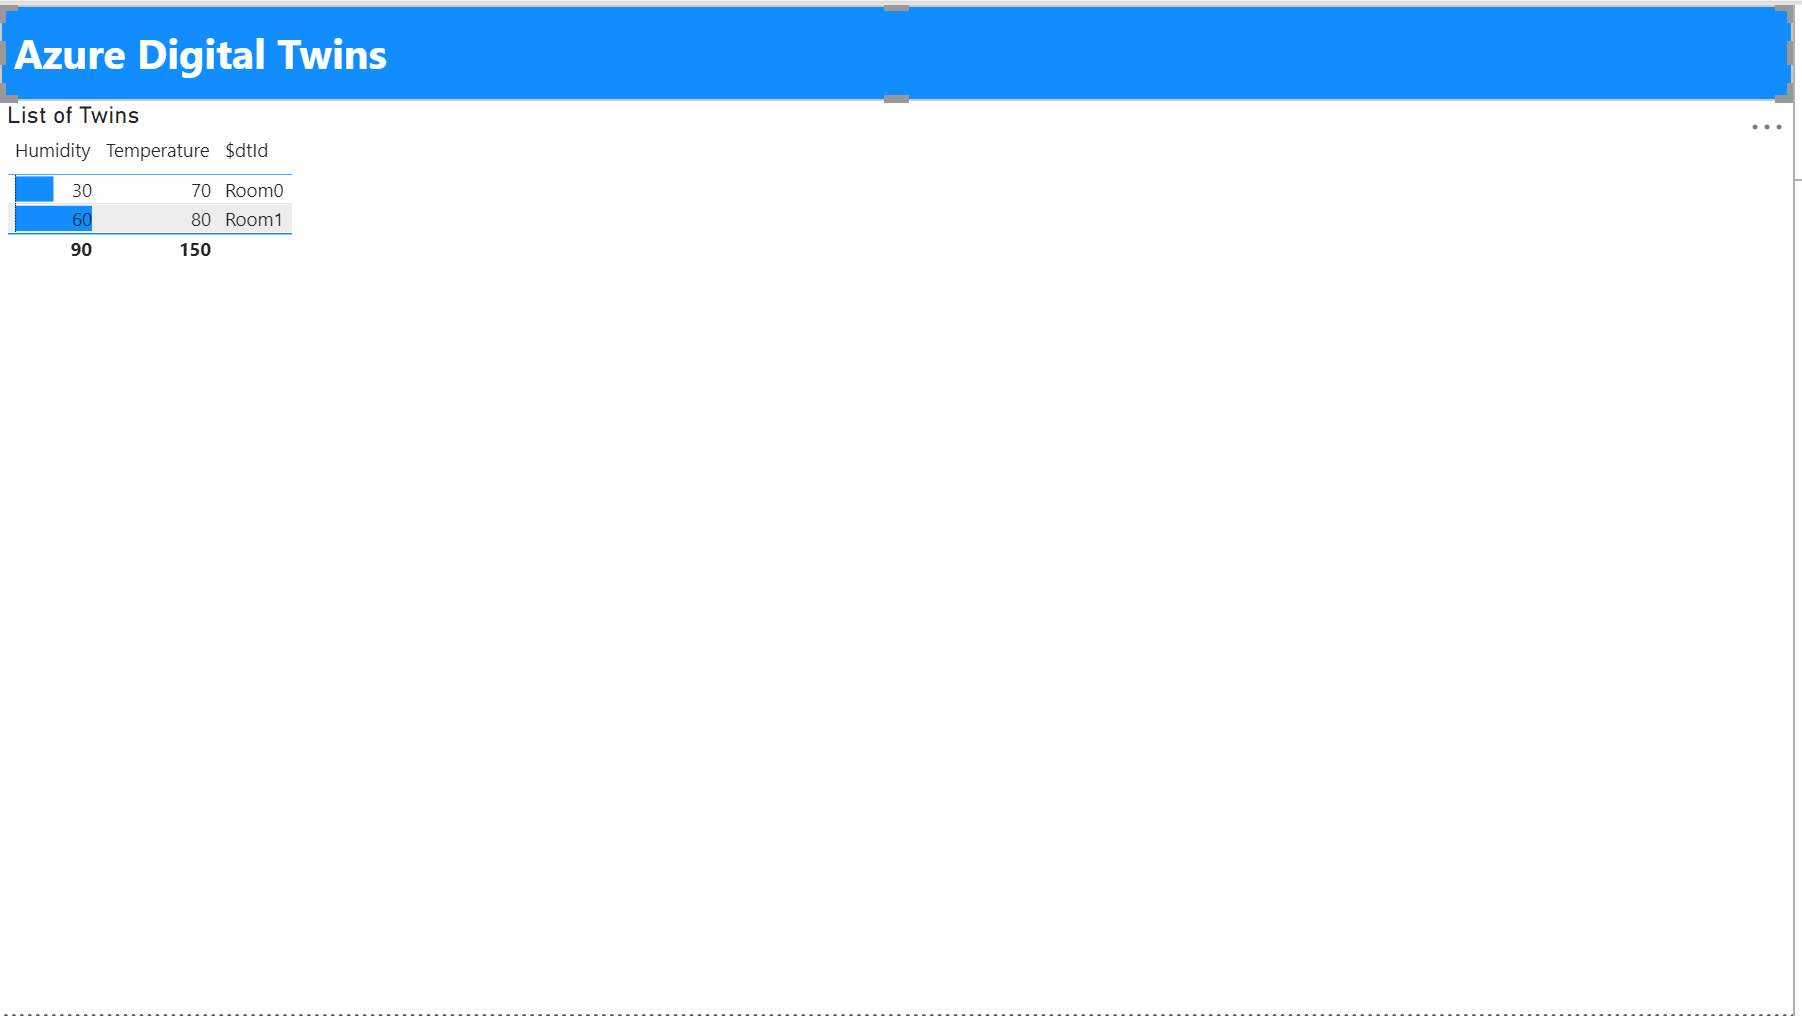

Layout of this report page (visuals, bound fields, positions):
{"tool":"powerbi","page":{"name":"Overview","canvas":[1280,720],"ordinal":0},"visuals":[{"type":"shape","box":[0,0,1280,68.6],"z":0},{"type":"tableEx","title":"List of Twins","fields":{"Values":["Sum(twin_list.Humidity)","Sum(twin_list.Temperature)","twin_list.$dtId"]},"box":[0,68.6,261.4,152.9],"z":1}]}

Visuals, with their boxes in screenshot pixels (x1, y1, x2, y2):
shape: Rect(9, 0, 1786, 95)
"List of Twins" tableEx: Rect(9, 95, 372, 308)
